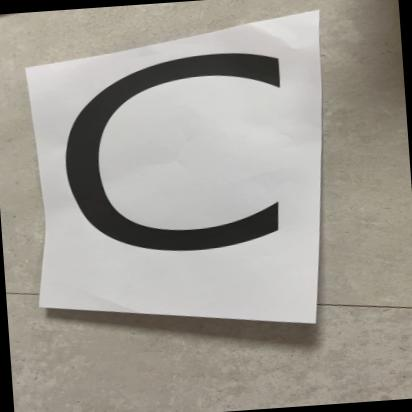seat: (23, 35, 322, 320)
